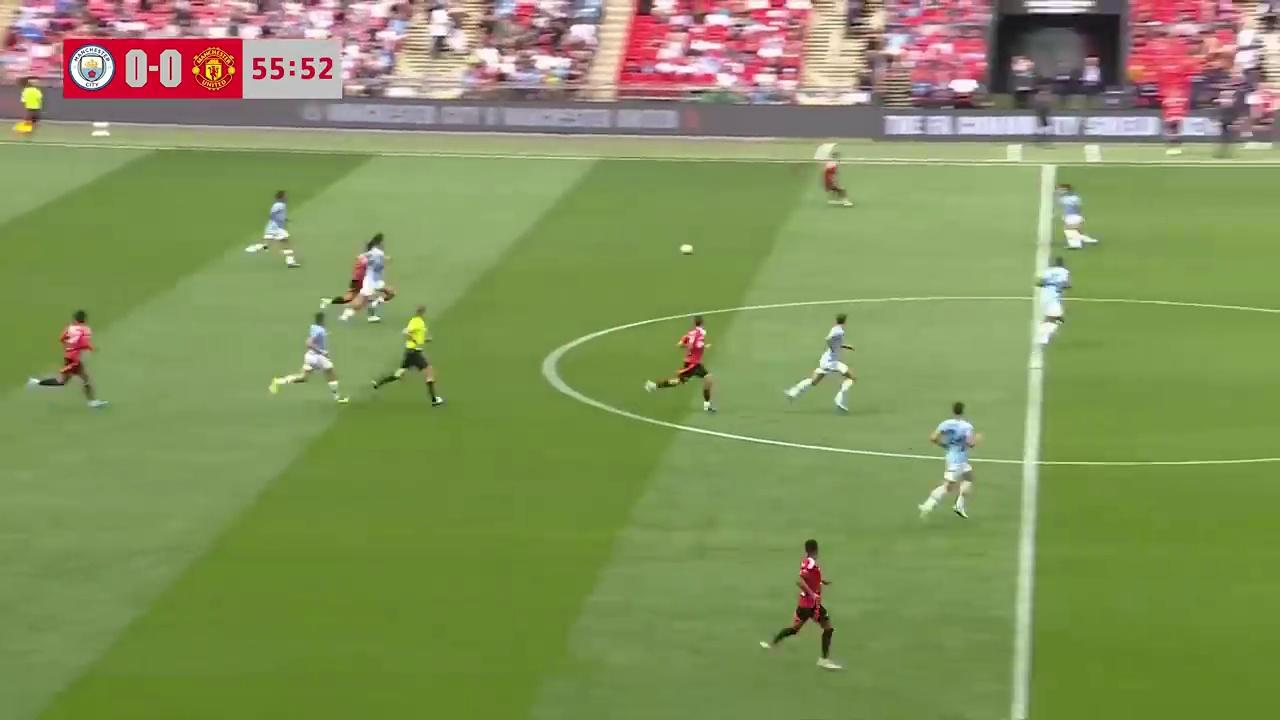ball: (677, 239, 695, 256)
player: (764, 540, 838, 664), (34, 308, 109, 409), (919, 401, 981, 521), (280, 310, 348, 404), (795, 315, 855, 414), (667, 316, 714, 408), (244, 190, 299, 267), (330, 248, 378, 323), (1035, 254, 1072, 339), (1055, 183, 1098, 251), (362, 233, 394, 318), (819, 150, 852, 206)
referee: (371, 305, 445, 406), (16, 79, 43, 144)
